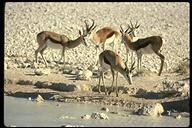antelope: (119, 23, 166, 76), (34, 29, 91, 65), (98, 49, 136, 97), (84, 19, 121, 51), (126, 19, 142, 38)
rock: (135, 101, 163, 116), (73, 69, 93, 81), (33, 67, 52, 76)
water: (6, 102, 90, 125)
